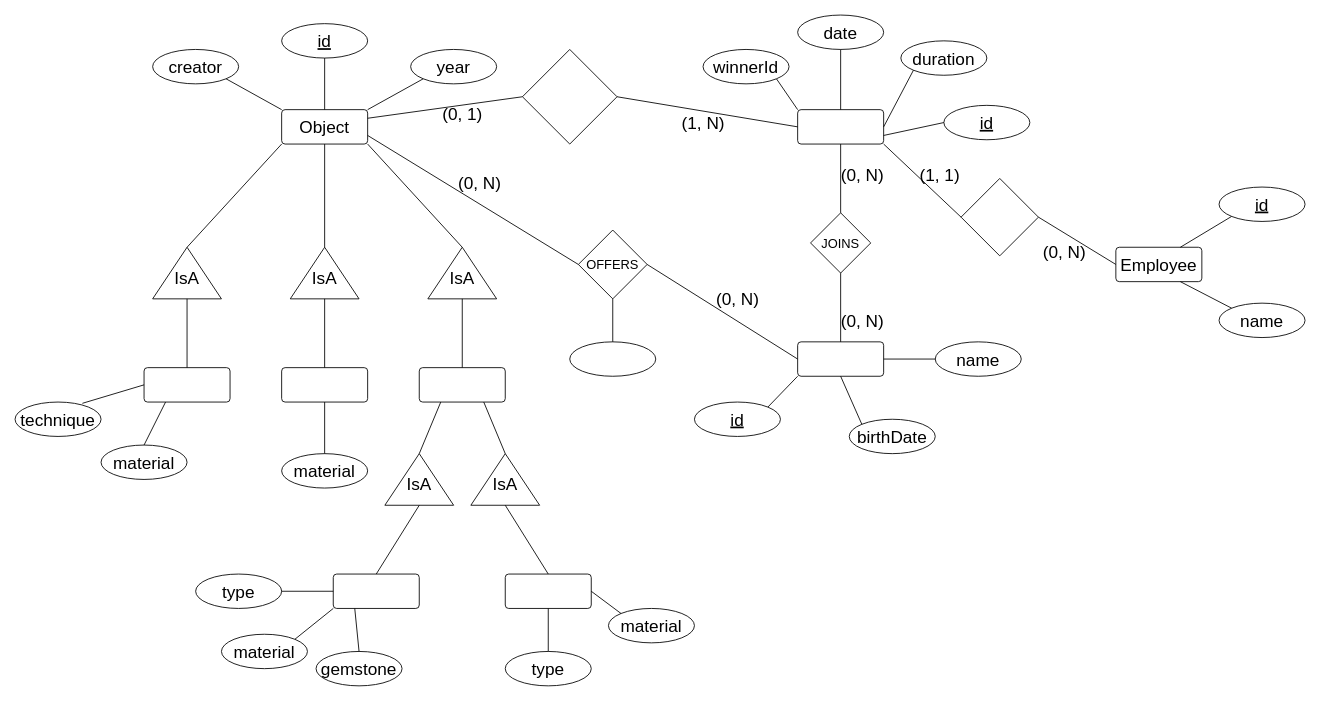
The diagram is 1320 pixels wide and 701 high, and some of its shapes have lost their labels. Each missing label, with the centre of its shape:
"Auction" belongs at point 840,126.
"Buyer" belongs at point 840,358.
"Decoration" belongs at point 547,590.
"IS AUCTIONED" belongs at point 569,96.
"Jewellery" belongs at point 375,590.
"MANAGES" belongs at point 999,217.
"Other" belongs at point 461,384.
"Painting" belongs at point 186,384.
"price" belongs at point 612,358.
"Sculpture" belongs at point 324,384.
